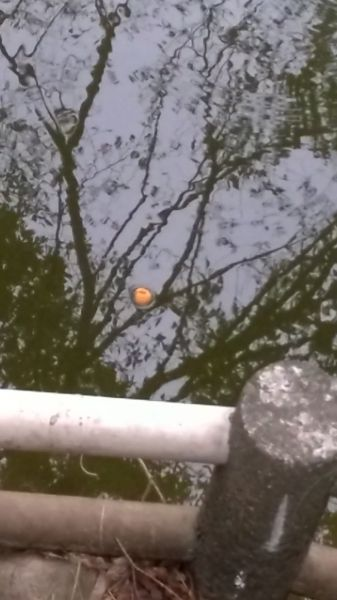eggs: (130, 283, 157, 310)
